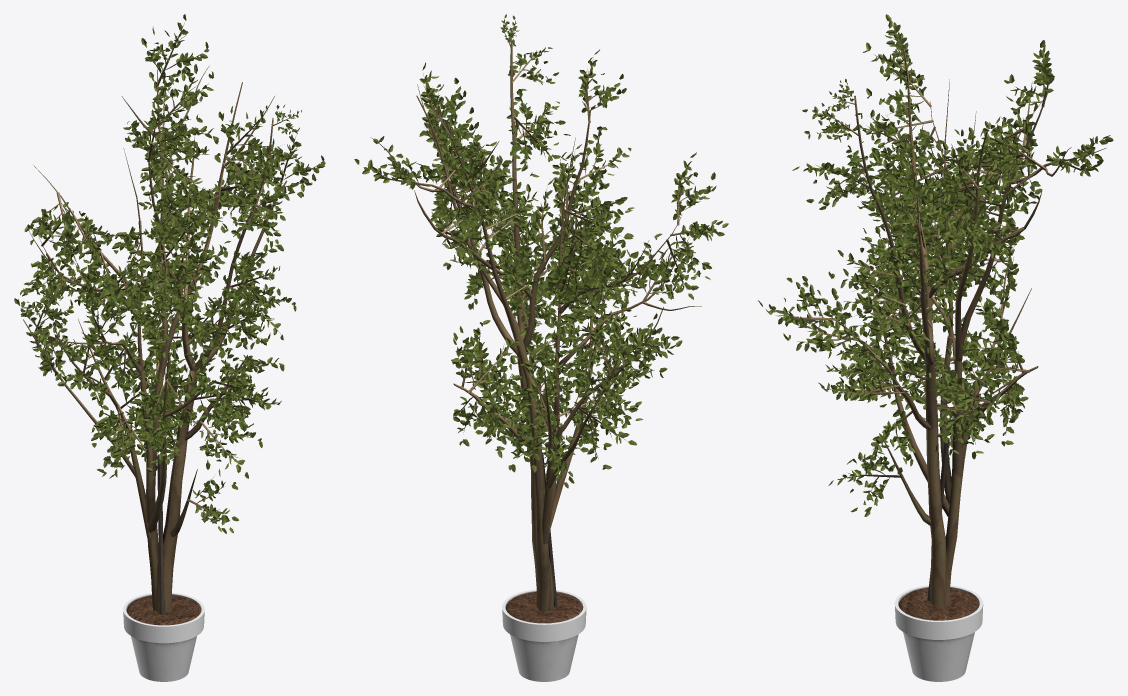
The model's file is tree_large_h.dae.
3 views of the same model, side by side, from view 1: azimuth 30°, elevation 25°; view 2: azimuth 150°, elevation 25°; view 3: azimuth 270°, elevation 25° (orthographic). The views are drawn at different scales.
Parts seen in each view (by area): view 1: leaf_h, tree_main, Vase; view 2: leaf_h, tree_main, Vase; view 3: leaf_h, tree_main, Vase.
Part boxes in pixels (x1,y1,x2,y2): leaf_h: (14, 14, 325, 533); tree_main: (23, 65, 287, 612); Vase: (123, 454, 204, 681); leaf_h: (354, 14, 728, 488); tree_main: (370, 40, 701, 612); Vase: (502, 452, 586, 681); leaf_h: (758, 14, 1113, 516); tree_main: (831, 70, 1106, 606); Vase: (894, 437, 983, 681).
Size of the model in its own units: 2.55 by 5.1 by 2.51.
5 materials, 5 textured.
